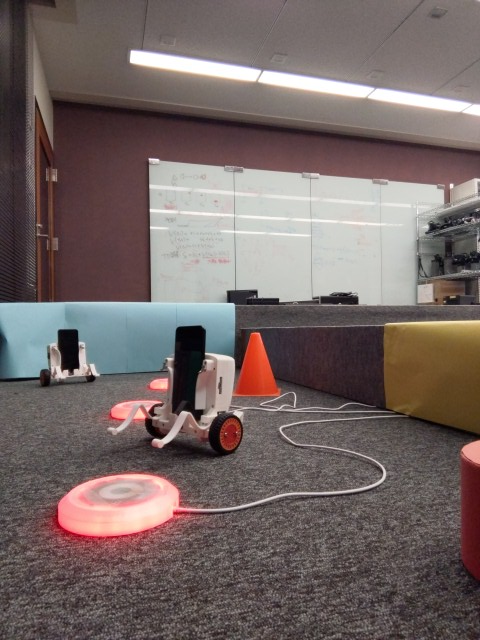bl: (106, 323, 244, 452)
f: (36, 327, 98, 384)
r: (57, 475, 186, 536), (108, 393, 170, 423), (147, 372, 172, 392)
